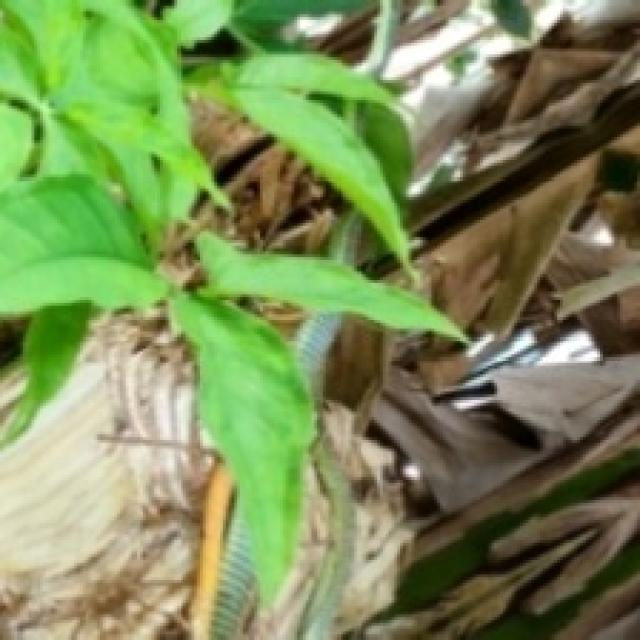paradise tree snake: (190, 462, 256, 639), (299, 438, 356, 639), (294, 311, 341, 404), (360, 0, 399, 78), (329, 209, 362, 264)
